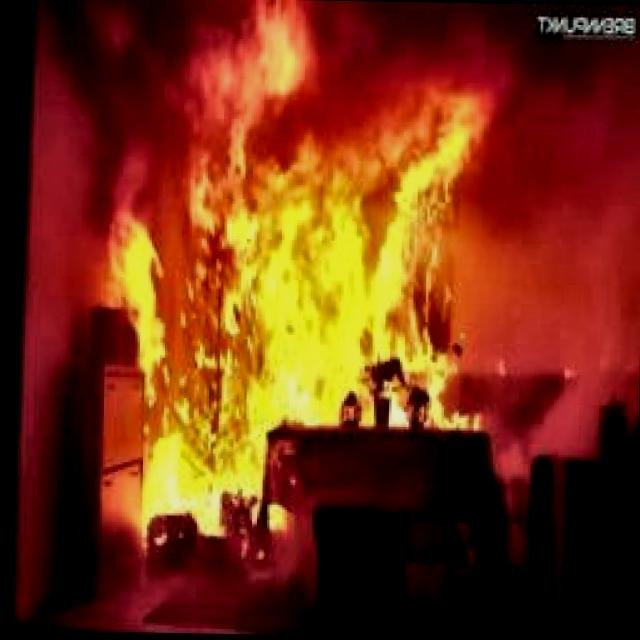fire: (58, 0, 533, 563)
